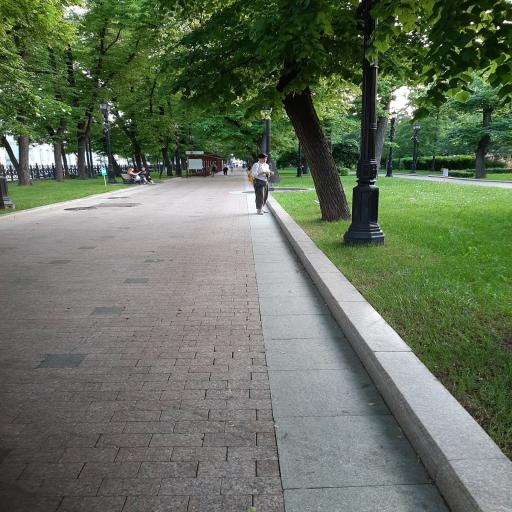crosswalk: (251, 152, 274, 214)
glass_wall: (0, 172, 447, 512)
trash_bin: (120, 174, 140, 184)
